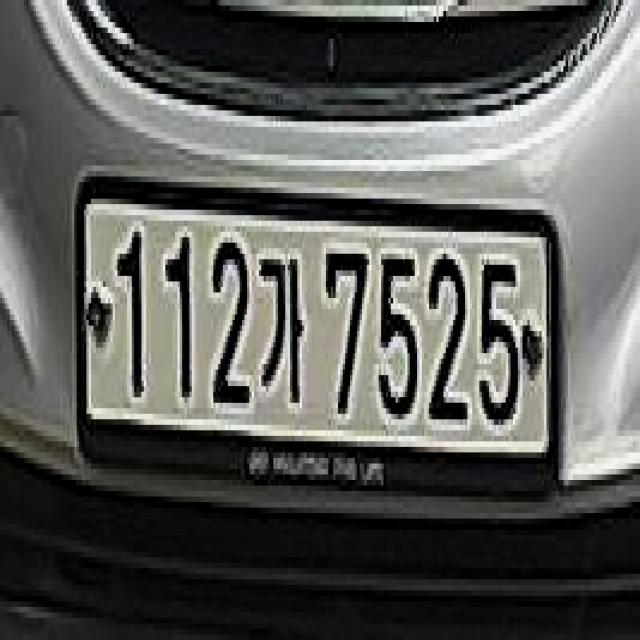illegal_plate: (76, 174, 567, 521)
